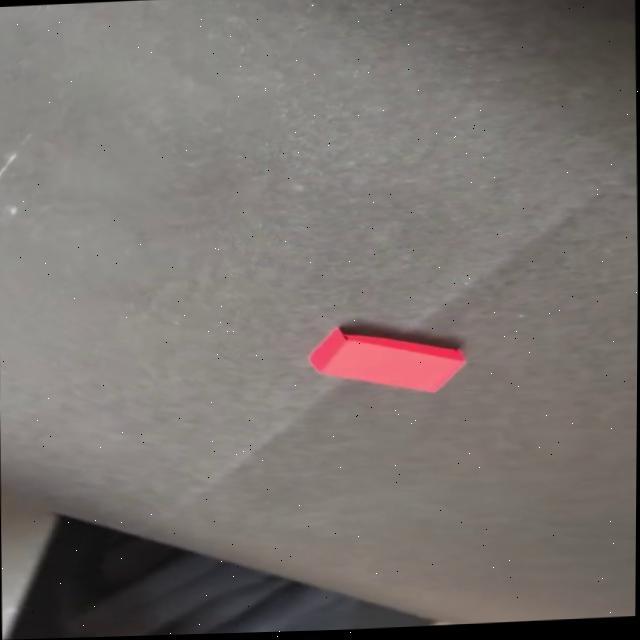red block: (306, 320, 468, 399)
